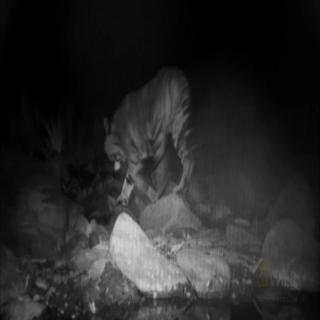Tiger: (105, 63, 218, 202)
